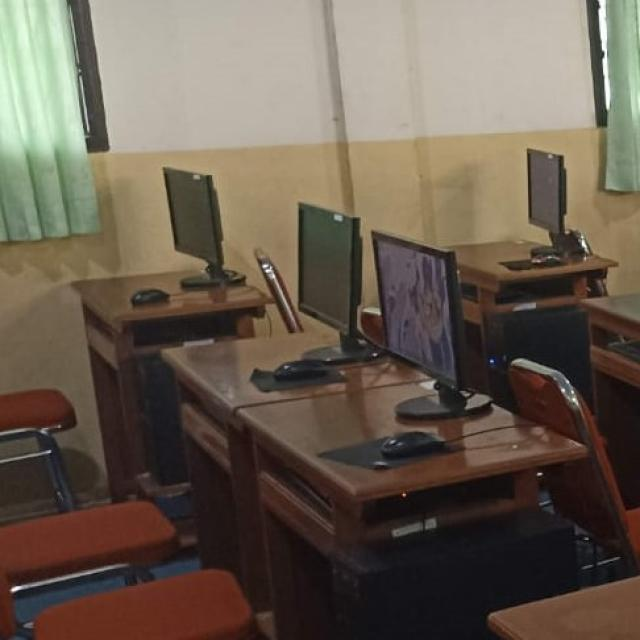offscreen: (299, 203, 361, 337), (164, 167, 223, 273)
onscreen: (373, 231, 463, 388), (528, 149, 566, 233)
